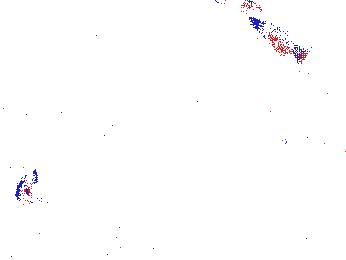X-ray fish: (13, 165, 44, 207)
red belly glassfish: (254, 125, 291, 149)
redtail glassfish: (249, 15, 309, 70)
